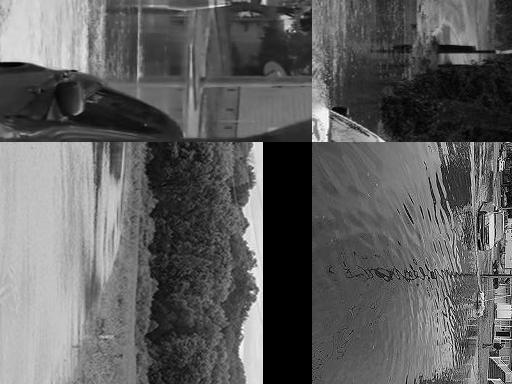road_waterlogging: (312, 142, 485, 384), (0, 142, 88, 384), (0, 0, 201, 61), (312, 0, 402, 90), (94, 142, 131, 181)
